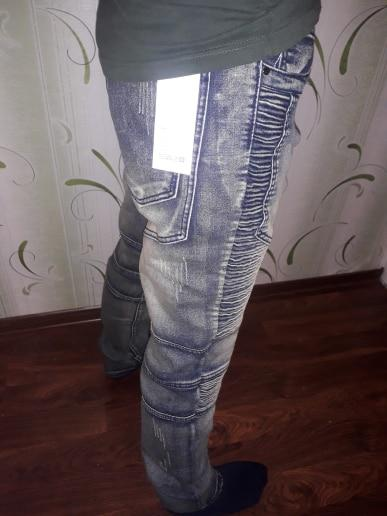jeans: (91, 31, 314, 493)
